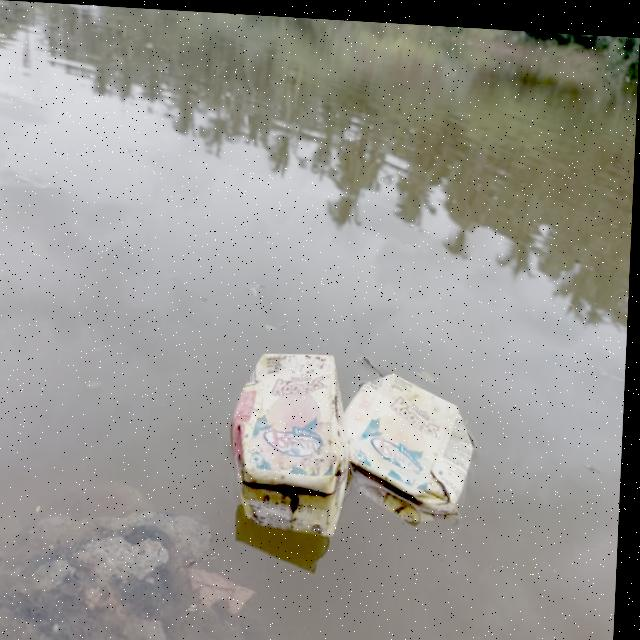paper: (345, 362, 483, 511), (228, 351, 341, 484)
